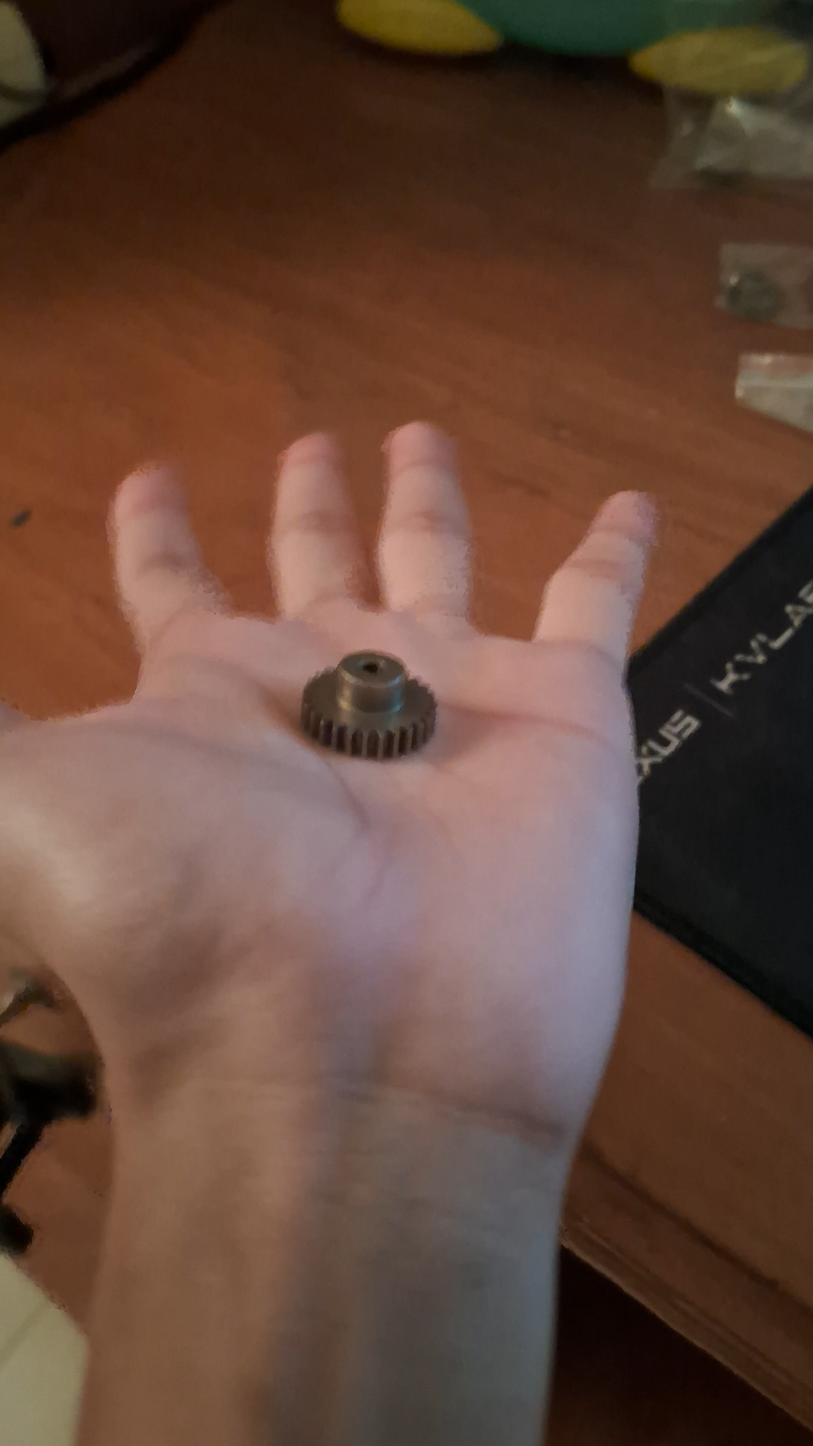spur gear: (301, 651, 436, 761)
